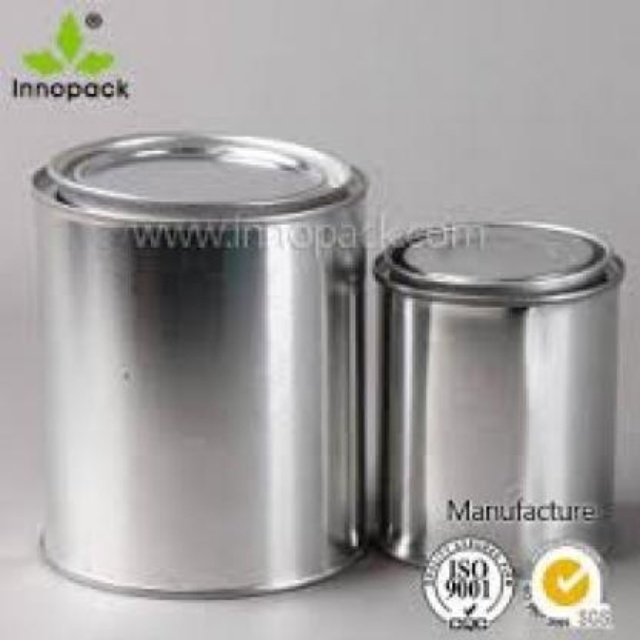trash: (32, 132, 366, 592), (375, 223, 622, 625)
